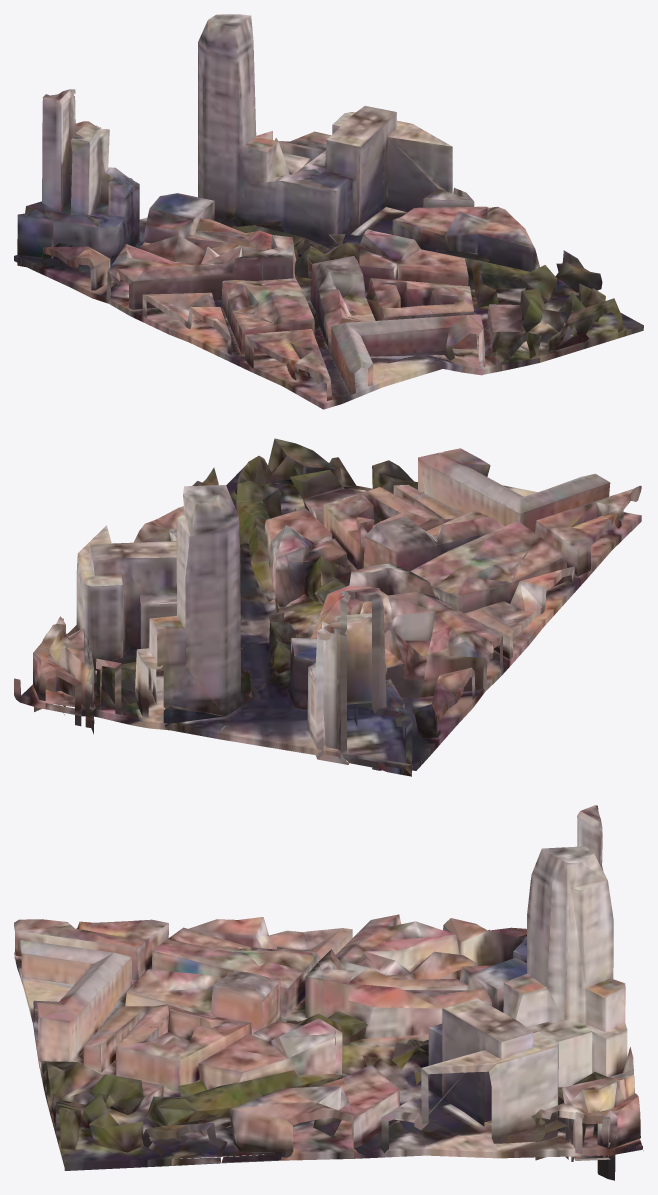
The picture shows the model from 3 angles, top to bottom: view 1: azimuth 30°, elevation 25°; view 2: azimuth 150°, elevation 25°; view 3: azimuth 270°, elevation 25°; orthographic projection. The views are drawn at different scales.
Parts seen in each view (by area): view 1: Mesh_0; view 2: Mesh_0; view 3: Mesh_0.
Boxes of the visible parts, box(x1,y1,x2,y2) form: Mesh_0: box(14, 14, 643, 409); Mesh_0: box(14, 438, 641, 776); Mesh_0: box(14, 805, 643, 1180).
Size of the model in its own units: 266 by 146 by 330.
Materials: 1 (1 with a texture image).
